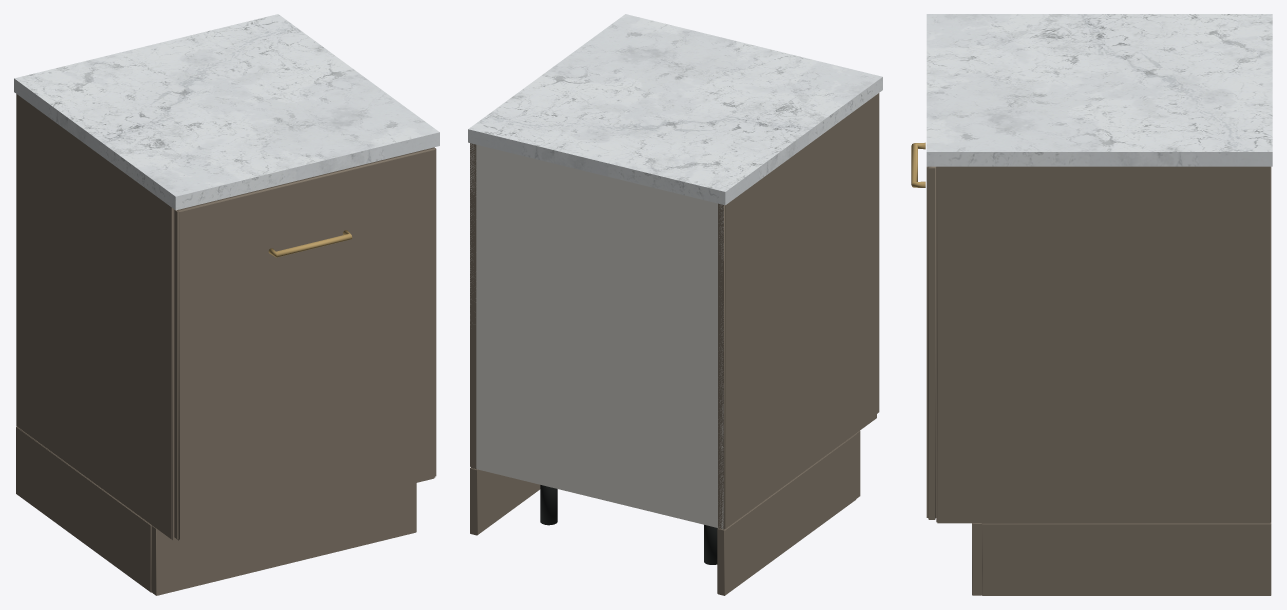
Rendered from contemporary.kitchen_base.gltf.
3 views of the same model, side by side, from view 1: azimuth 30°, elevation 25°; view 2: azimuth 150°, elevation 25°; view 3: azimuth 270°, elevation 25° (orthographic). The views are drawn at different scales.
Parts seen in each view (by area): view 1: contemporary.kitchen_base.back; view 2: contemporary.kitchen_base.back; view 3: contemporary.kitchen_base.back.
Part boxes in pixels (bbox=[...]): contemporary.kitchen_base.back: bbox=[14, 14, 439, 595]; contemporary.kitchen_base.back: bbox=[468, 14, 882, 595]; contemporary.kitchen_base.back: bbox=[911, 14, 1272, 595].
Size of the model in its own units: 0.604 by 0.91 by 0.668.
5 materials, 1 textured.
